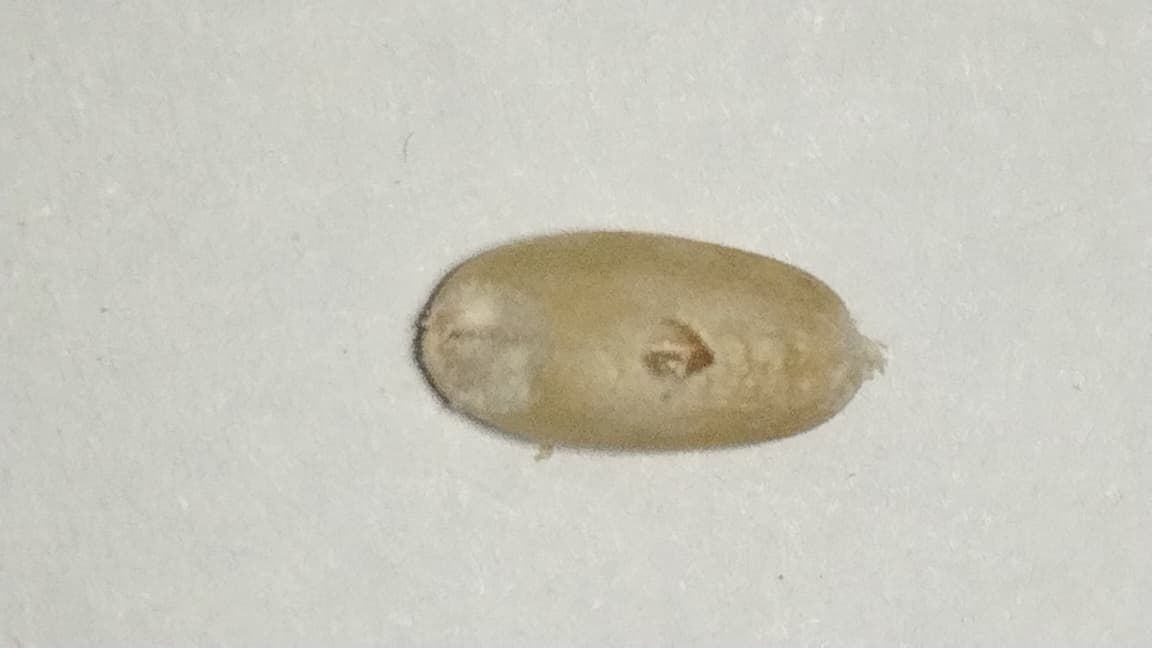damage: (417, 232, 881, 450)
insectdamage: (595, 291, 810, 419), (416, 275, 552, 426)
